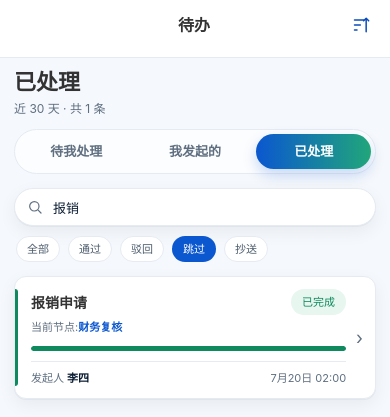
Test: TaskCenterPage › restores done view and filters from URL, then keeps filters when switching tabs
Check: the text "报销申请" is shown, box [31,292,87,312]
Check: the search field named "搜索申请人或表单名" holds "报销", box [51,198,363,216]
Click the tab "我发起的": (195, 151) [138,134,252,169]
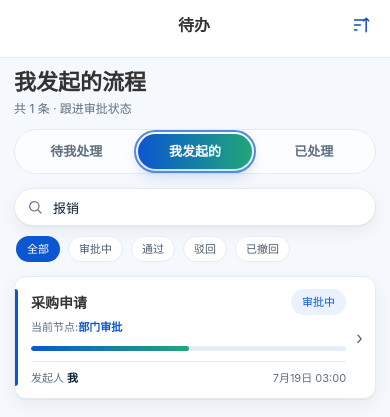
Check: the search field named "搜索申请人或表单名" holds "报销", box [51,198,363,216]
Check: the text "采购申请" is shown, box [31,292,87,312]
